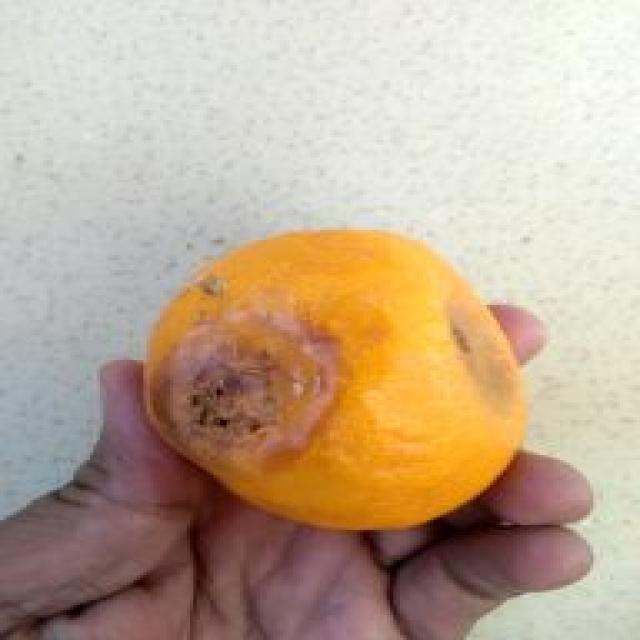Bad_Orange: (147, 230, 525, 529)
